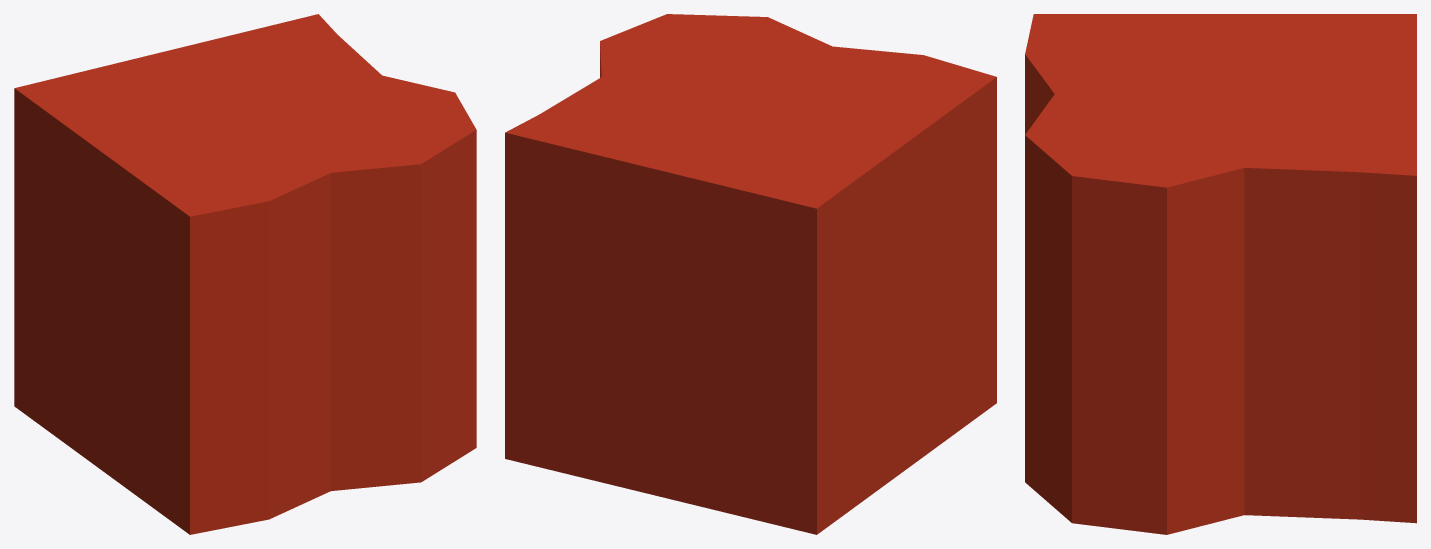
File: rock_corner_in_1.glb
3 views of the same model, side by side, from view 1: azimuth 30°, elevation 25°; view 2: azimuth 150°, elevation 25°; view 3: azimuth 270°, elevation 25° (orthographic). The views are drawn at different scales.
Visible parts, largest first — view 1: rock_corner_in_1; view 2: rock_corner_in_1; view 3: rock_corner_in_1.
Part boxes in pixels (x1=…): rock_corner_in_1: x1=14, y1=14, x2=476, y2=534; rock_corner_in_1: x1=505, y1=14, x2=996, y2=534; rock_corner_in_1: x1=1025, y1=14, x2=1416, y2=534.
Bounding box in the file's own units: 2.15 × 2 × 2.05.
